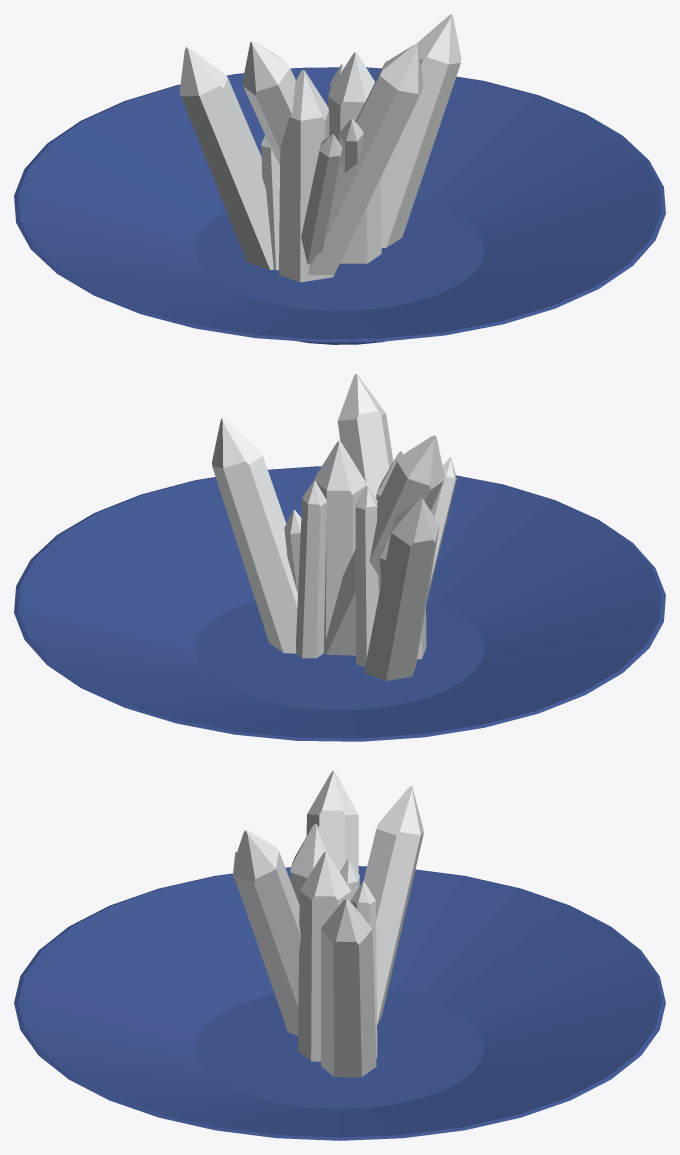
Rendered from cuarzo.glb.
3 renders of one model, top to bottom at view 1: azimuth 30°, elevation 25°; view 2: azimuth 150°, elevation 25°; view 3: azimuth 270°, elevation 25°, orthographic.
Visible parts, largest first — view 1: Cilindro, Mesh_Mesh_head_geo.001_lambert2SG.001; view 2: Cilindro, Mesh_Mesh_head_geo.001_lambert2SG.001; view 3: Cilindro, Mesh_Mesh_head_geo.001_lambert2SG.001.
Boxes of the visible parts, box(x1,y1,x2,y2) form: Cilindro: box(14, 67, 665, 344); Mesh_Mesh_head_geo.001_lambert2SG.001: box(179, 14, 461, 282); Cilindro: box(14, 466, 665, 741); Mesh_Mesh_head_geo.001_lambert2SG.001: box(212, 373, 456, 680); Cilindro: box(14, 866, 665, 1140); Mesh_Mesh_head_geo.001_lambert2SG.001: box(233, 770, 423, 1077).
Size of the model in its own units: 5.19 by 2.37 by 5.19.
